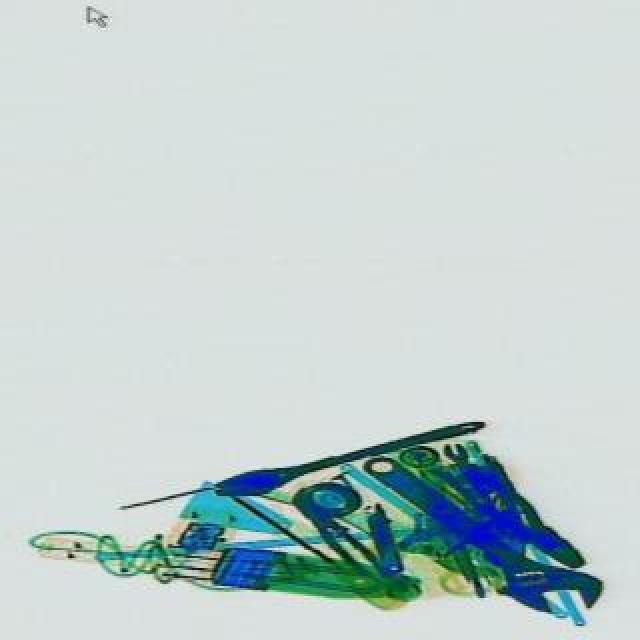scissors: (344, 430, 606, 638), (210, 406, 484, 506), (436, 436, 488, 504)
wrench: (420, 442, 592, 578), (290, 492, 386, 586)
